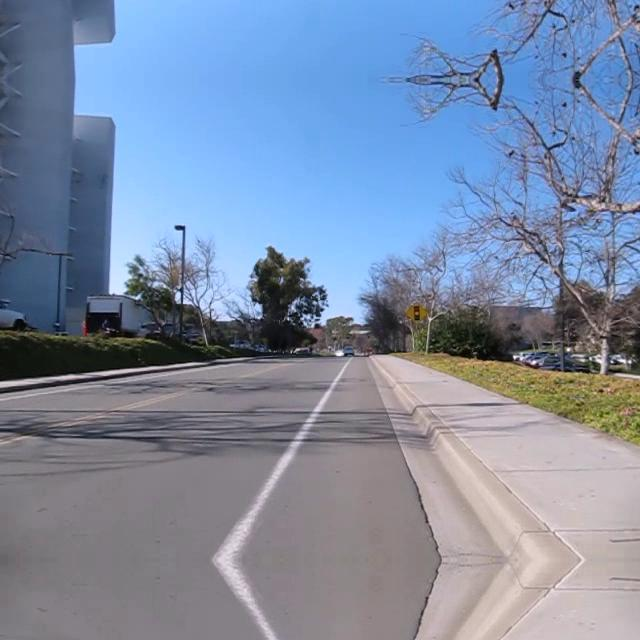signalAhead: (404, 300, 428, 324)
